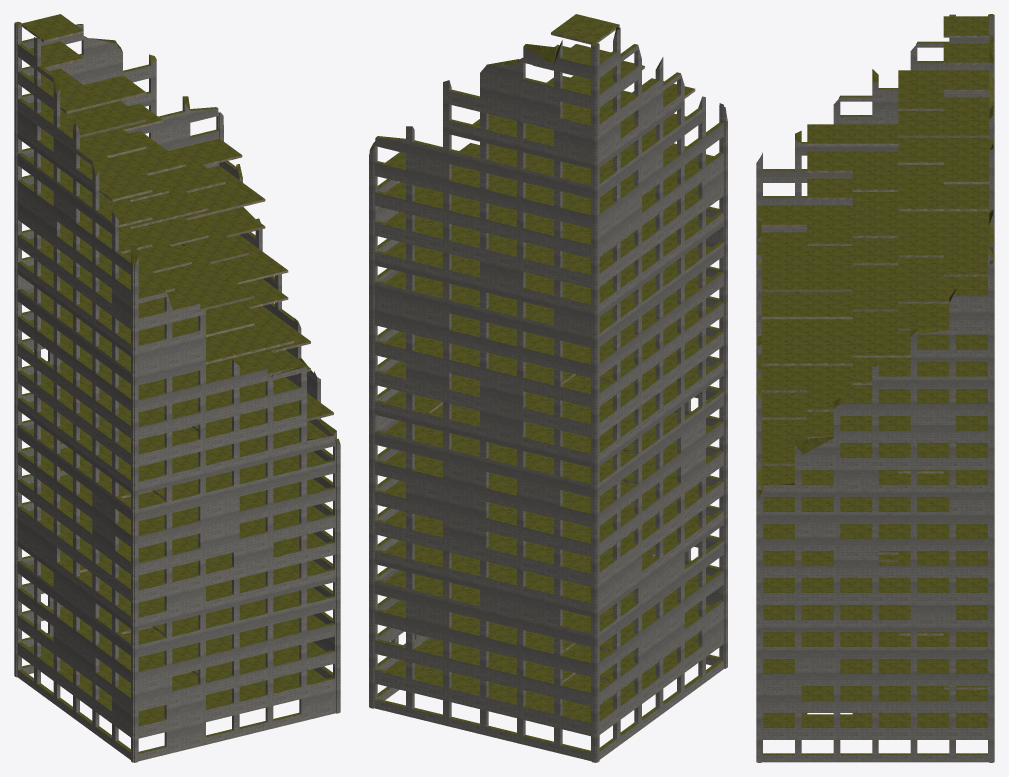
File: tower_c.gltf
3 renders of one model, left to right at view 1: azimuth 30°, elevation 25°; view 2: azimuth 150°, elevation 25°; view 3: azimuth 270°, elevation 25°, orthographic. The views are drawn at different scales.
Visible parts, largest first — view 1: tower_c; view 2: tower_c; view 3: tower_c.
Boxes of the visible parts, x1=… form: tower_c: x1=14, y1=14, x2=340, y2=762; tower_c: x1=369, y1=14, x2=727, y2=762; tower_c: x1=756, y1=14, x2=994, y2=762.
Bounding box in the file's own units: 28.8 × 86.4 × 28.8.
